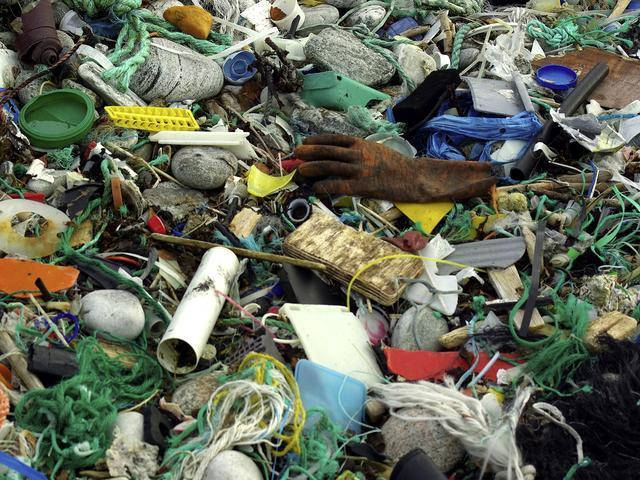garbage: (6, 20, 618, 451)
